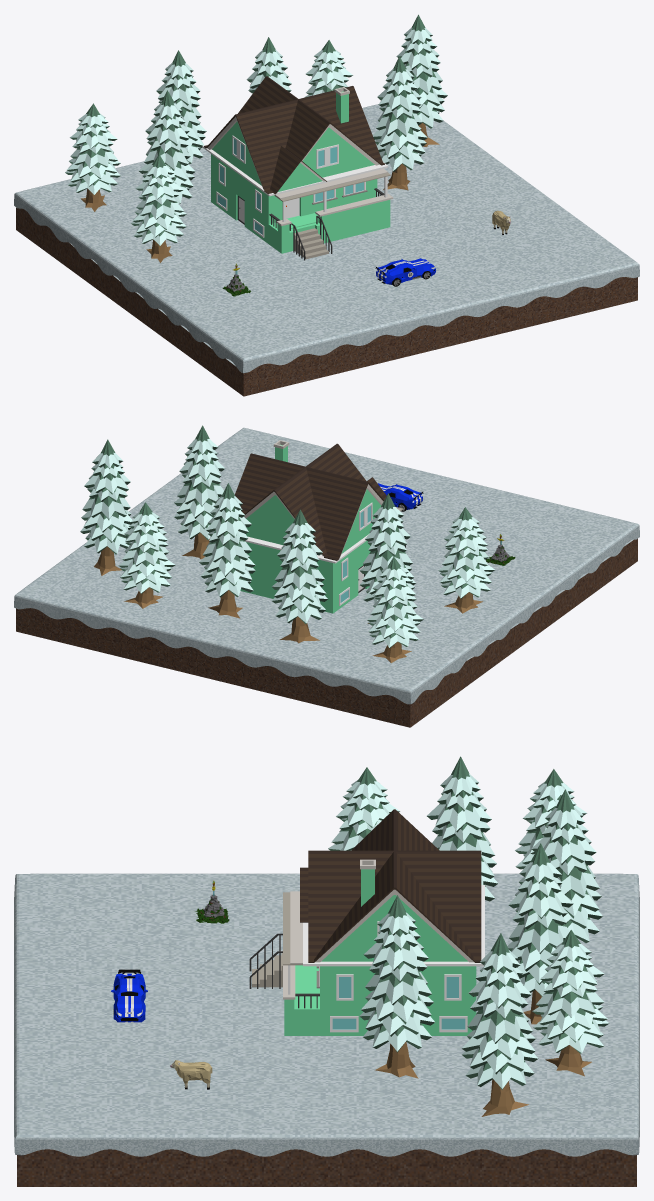
The picture shows the model from 3 angles, top to bottom: view 1: azimuth 30°, elevation 25°; view 2: azimuth 150°, elevation 25°; view 3: azimuth 270°, elevation 25°; orthographic projection. The views are drawn at different scales.
Parts seen in each view (by area): view 1: Cube.003, Cube.352, VEHICLES_RACING_CAR; view 2: Cube.003, Cube.352, VEHICLES_RACING_CAR; view 3: Cube.003, Cube.352, VEHICLES_RACING_CAR, ANIMAL_OVEJA, OBJRANDOM_SWORD_IN_THE_STONE.
Boxes of the visible parts, x1,y1,x2,y2 form: Cube.003: (14,14,639,396); Cube.352: (202,76,393,260); VEHICLES_RACING_CAR: (375,258,435,286); Cube.003: (14,425,639,727); Cube.352: (235,440,405,613); VEHICLES_RACING_CAR: (378,483,423,511); Cube.003: (14,756,639,1186); Cube.352: (249,809,484,1035); VEHICLES_RACING_CAR: (111,969,147,1022); ANIMAL_OVEJA: (170,1059,212,1089); OBJRANDOM_SWORD_IN_THE_STONE: (195,880,229,923).
Size of the model in its own units: 4040 by 1700 by 4040.
38 materials, 3 textured.
